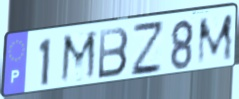1: (37, 35, 53, 88)
8: (169, 16, 196, 71)
B: (96, 25, 131, 81)
M: (58, 29, 99, 87), (196, 11, 235, 68)
Z: (130, 21, 164, 79)
